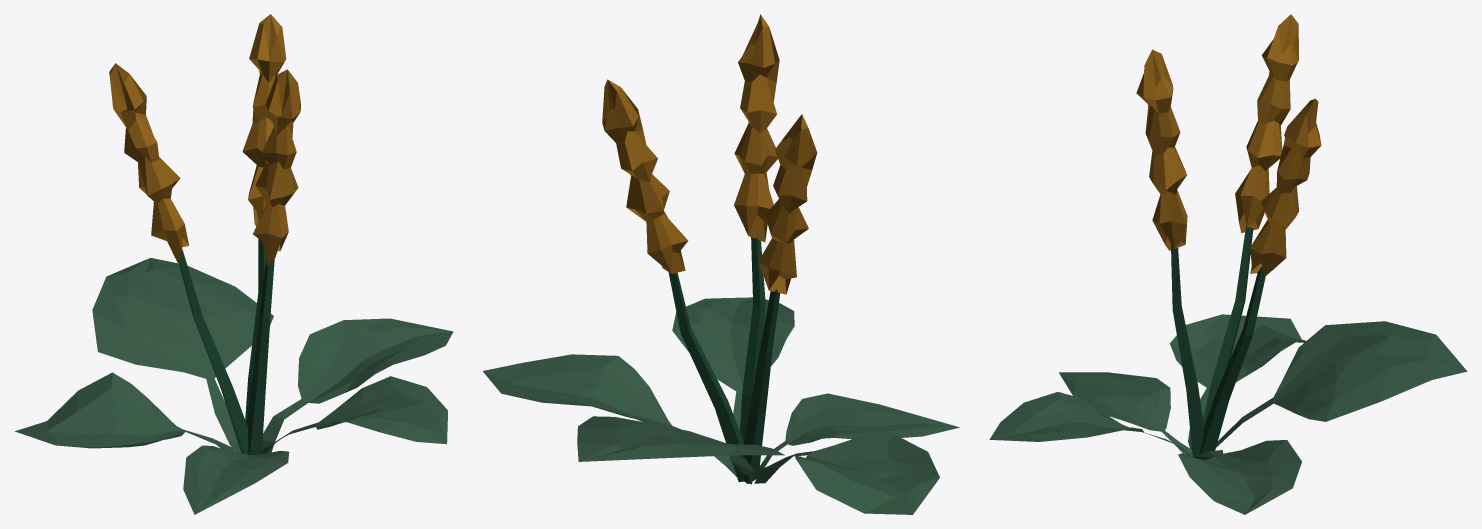
Rendered from Plantain.fbx.
3 views of the same model, side by side, from view 1: azimuth 30°, elevation 25°; view 2: azimuth 150°, elevation 25°; view 3: azimuth 270°, elevation 25° (orthographic). The views are drawn at different scales.
Visible parts, largest first — view 1: Plantain_LOD0; view 2: Plantain_LOD0; view 3: Plantain_LOD0.
Part boxes in pixels (left/top/right/bottom): Plantain_LOD0: left=15, top=14, right=453, bottom=514; Plantain_LOD0: left=483, top=14, right=959, bottom=514; Plantain_LOD0: left=989, top=14, right=1467, bottom=514.
Size of what is drawn, in the model's own units: 203 by 190 by 194.
